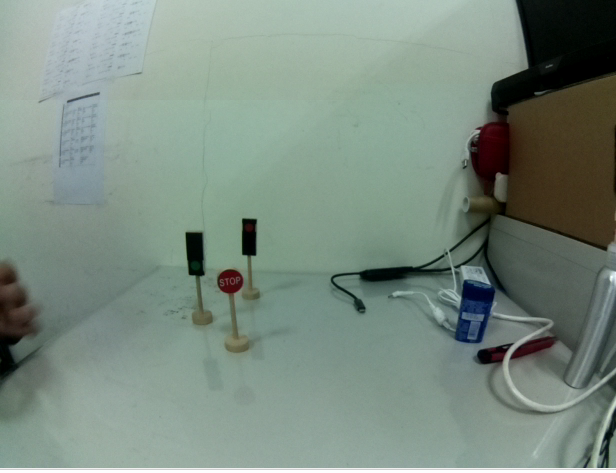Green: (183, 229, 207, 278)
Red: (239, 216, 257, 257)
Stop: (217, 267, 243, 294)
